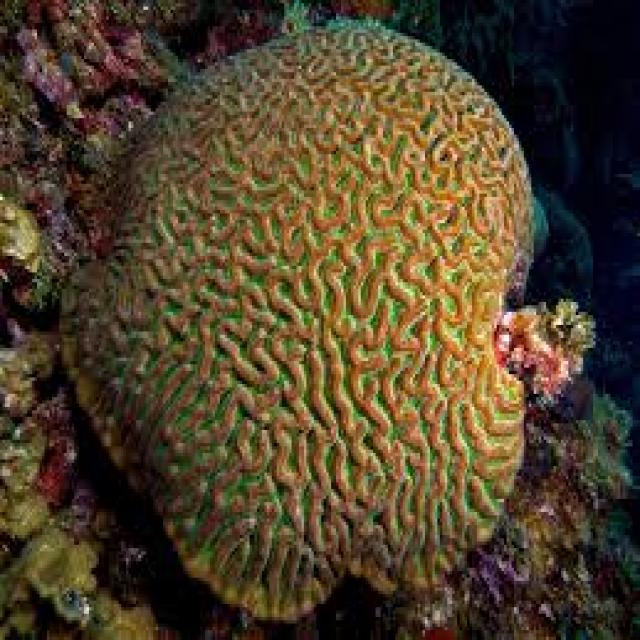Coral: (60, 21, 538, 621)
